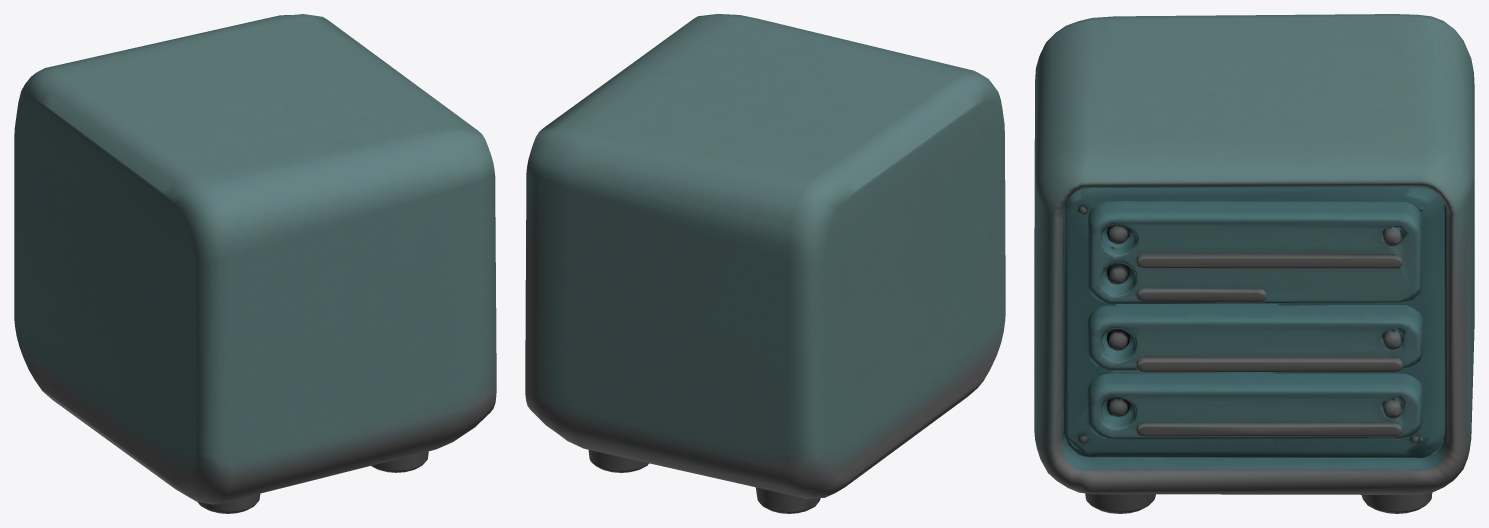
The model's file is icon-server.glb.
The picture shows the model from 3 angles, left to right: view 1: azimuth 30°, elevation 25°; view 2: azimuth 150°, elevation 25°; view 3: azimuth 270°, elevation 25°; orthographic projection. The views are drawn at different scales.
Parts seen in each view (by area): view 1: tripo_node_kodyurd-model-64____________________; view 2: tripo_node_kodyurd-model-64____________________; view 3: tripo_node_kodyurd-model-64____________________.
Boxes of the visible parts, x1,y1,x2,y2 form: tripo_node_kodyurd-model-64____________________: [14, 14, 496, 513]; tripo_node_kodyurd-model-64____________________: [525, 14, 1005, 513]; tripo_node_kodyurd-model-64____________________: [1034, 14, 1474, 513].
Bounding box in the file's own units: 0.9004 × 0.9473 × 0.998.
Materials: 1 (1 with a texture image).
